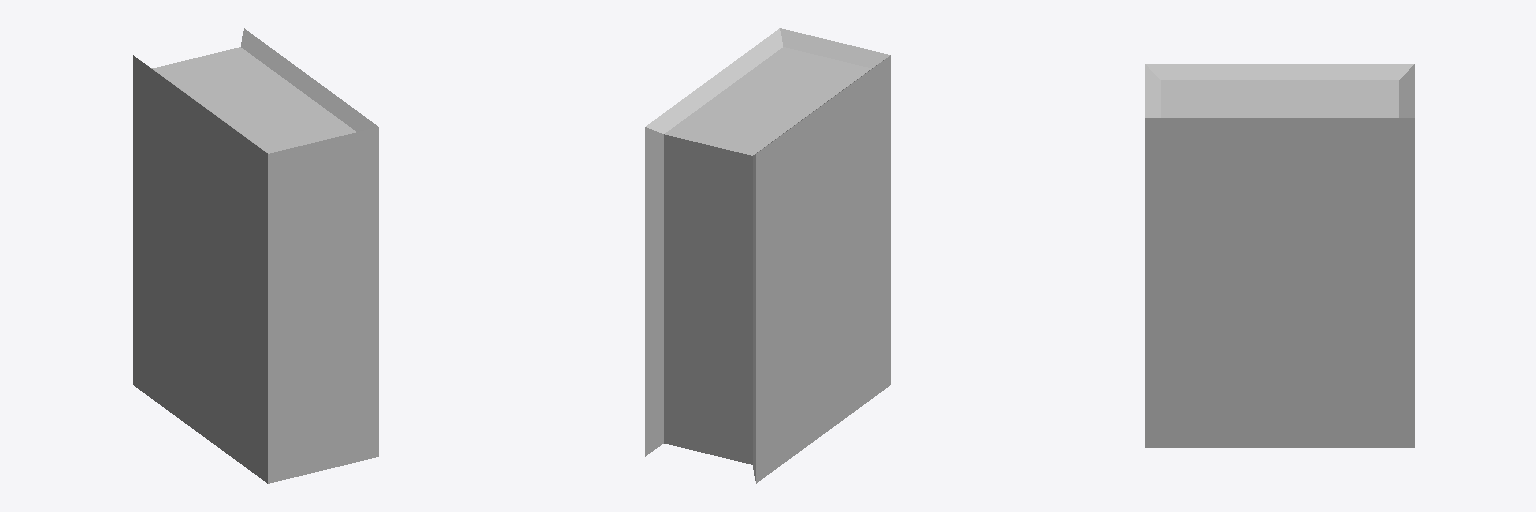
Rendered from bookmedium03.obj.
The picture shows the model from 3 angles: view 1: azimuth 30°, elevation 25°; view 2: azimuth 150°, elevation 25°; view 3: azimuth 270°, elevation 25°; orthographic projection.
Visible parts, largest first — view 1: bookmedium030; view 2: bookmedium030; view 3: bookmedium030.
Part boxes in pixels (x1,y1,x2,y2): bookmedium030: (133,28,378,483); bookmedium030: (645,28,890,483); bookmedium030: (1145,64,1414,447).
Bounding box in the file's own units: 0.2122 × 0.6038 × 0.4477.